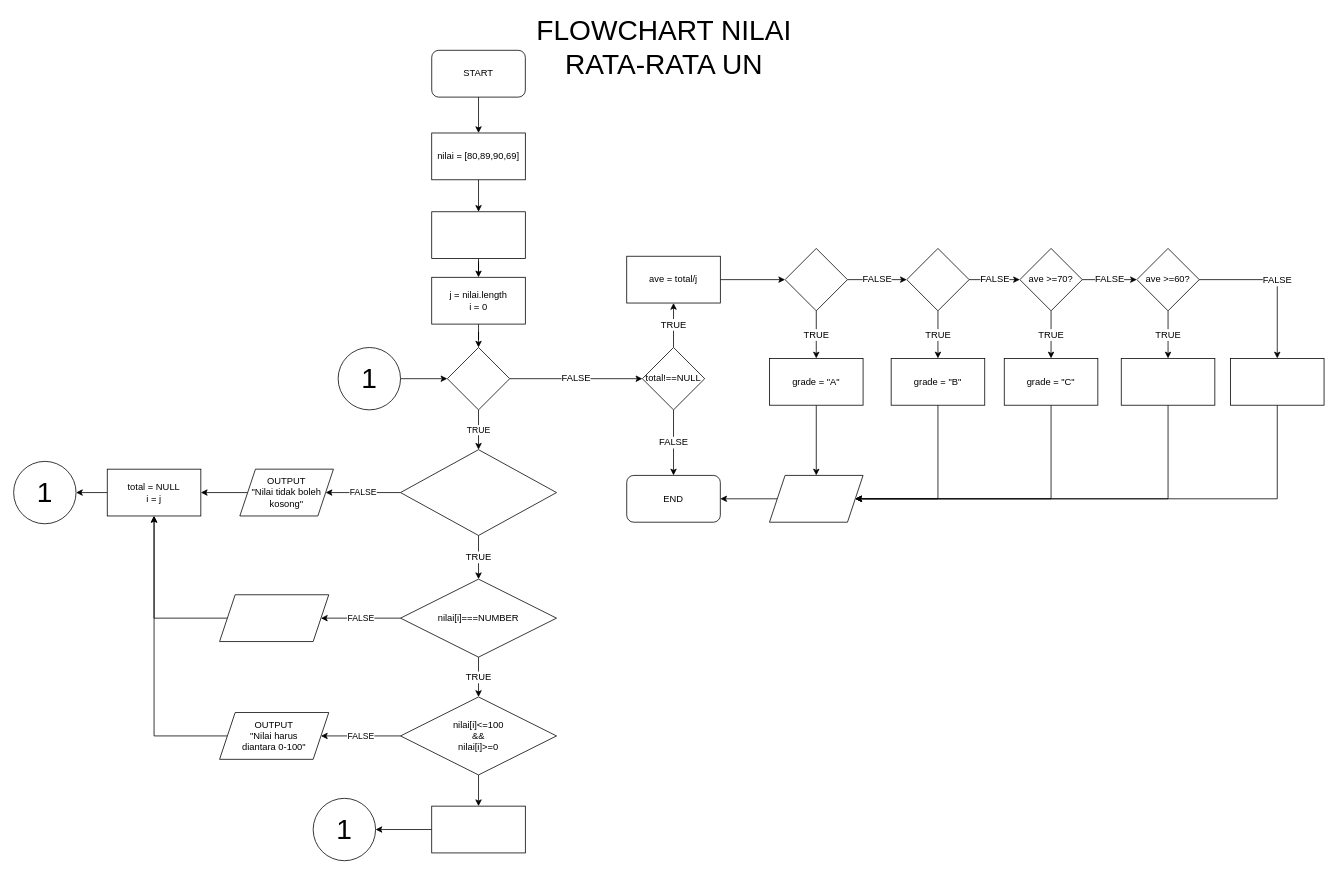
Some shapes in this 1338 by 874 pixel diagram are drawn without their labels. The shapes that lost their labels are listed below. From the top down, each one's centre as x and y in pixels, then its label:
[478,235]: ave = 0 total = 0
[815,279]: ave >=90?
[937,279]: ave >=80?
[478,378]: i < j
[1167,381]: grade = "D"
[1277,381]: grade = "E"
[478,492]: nilai[i]!==NULL && nilai[i]!==UNDEFINED
[816,498]: OUTPUT ave grade
[274,618]: OUTPUT "Nilai harus berupa angka"
[478,829]: total += nilai i++
